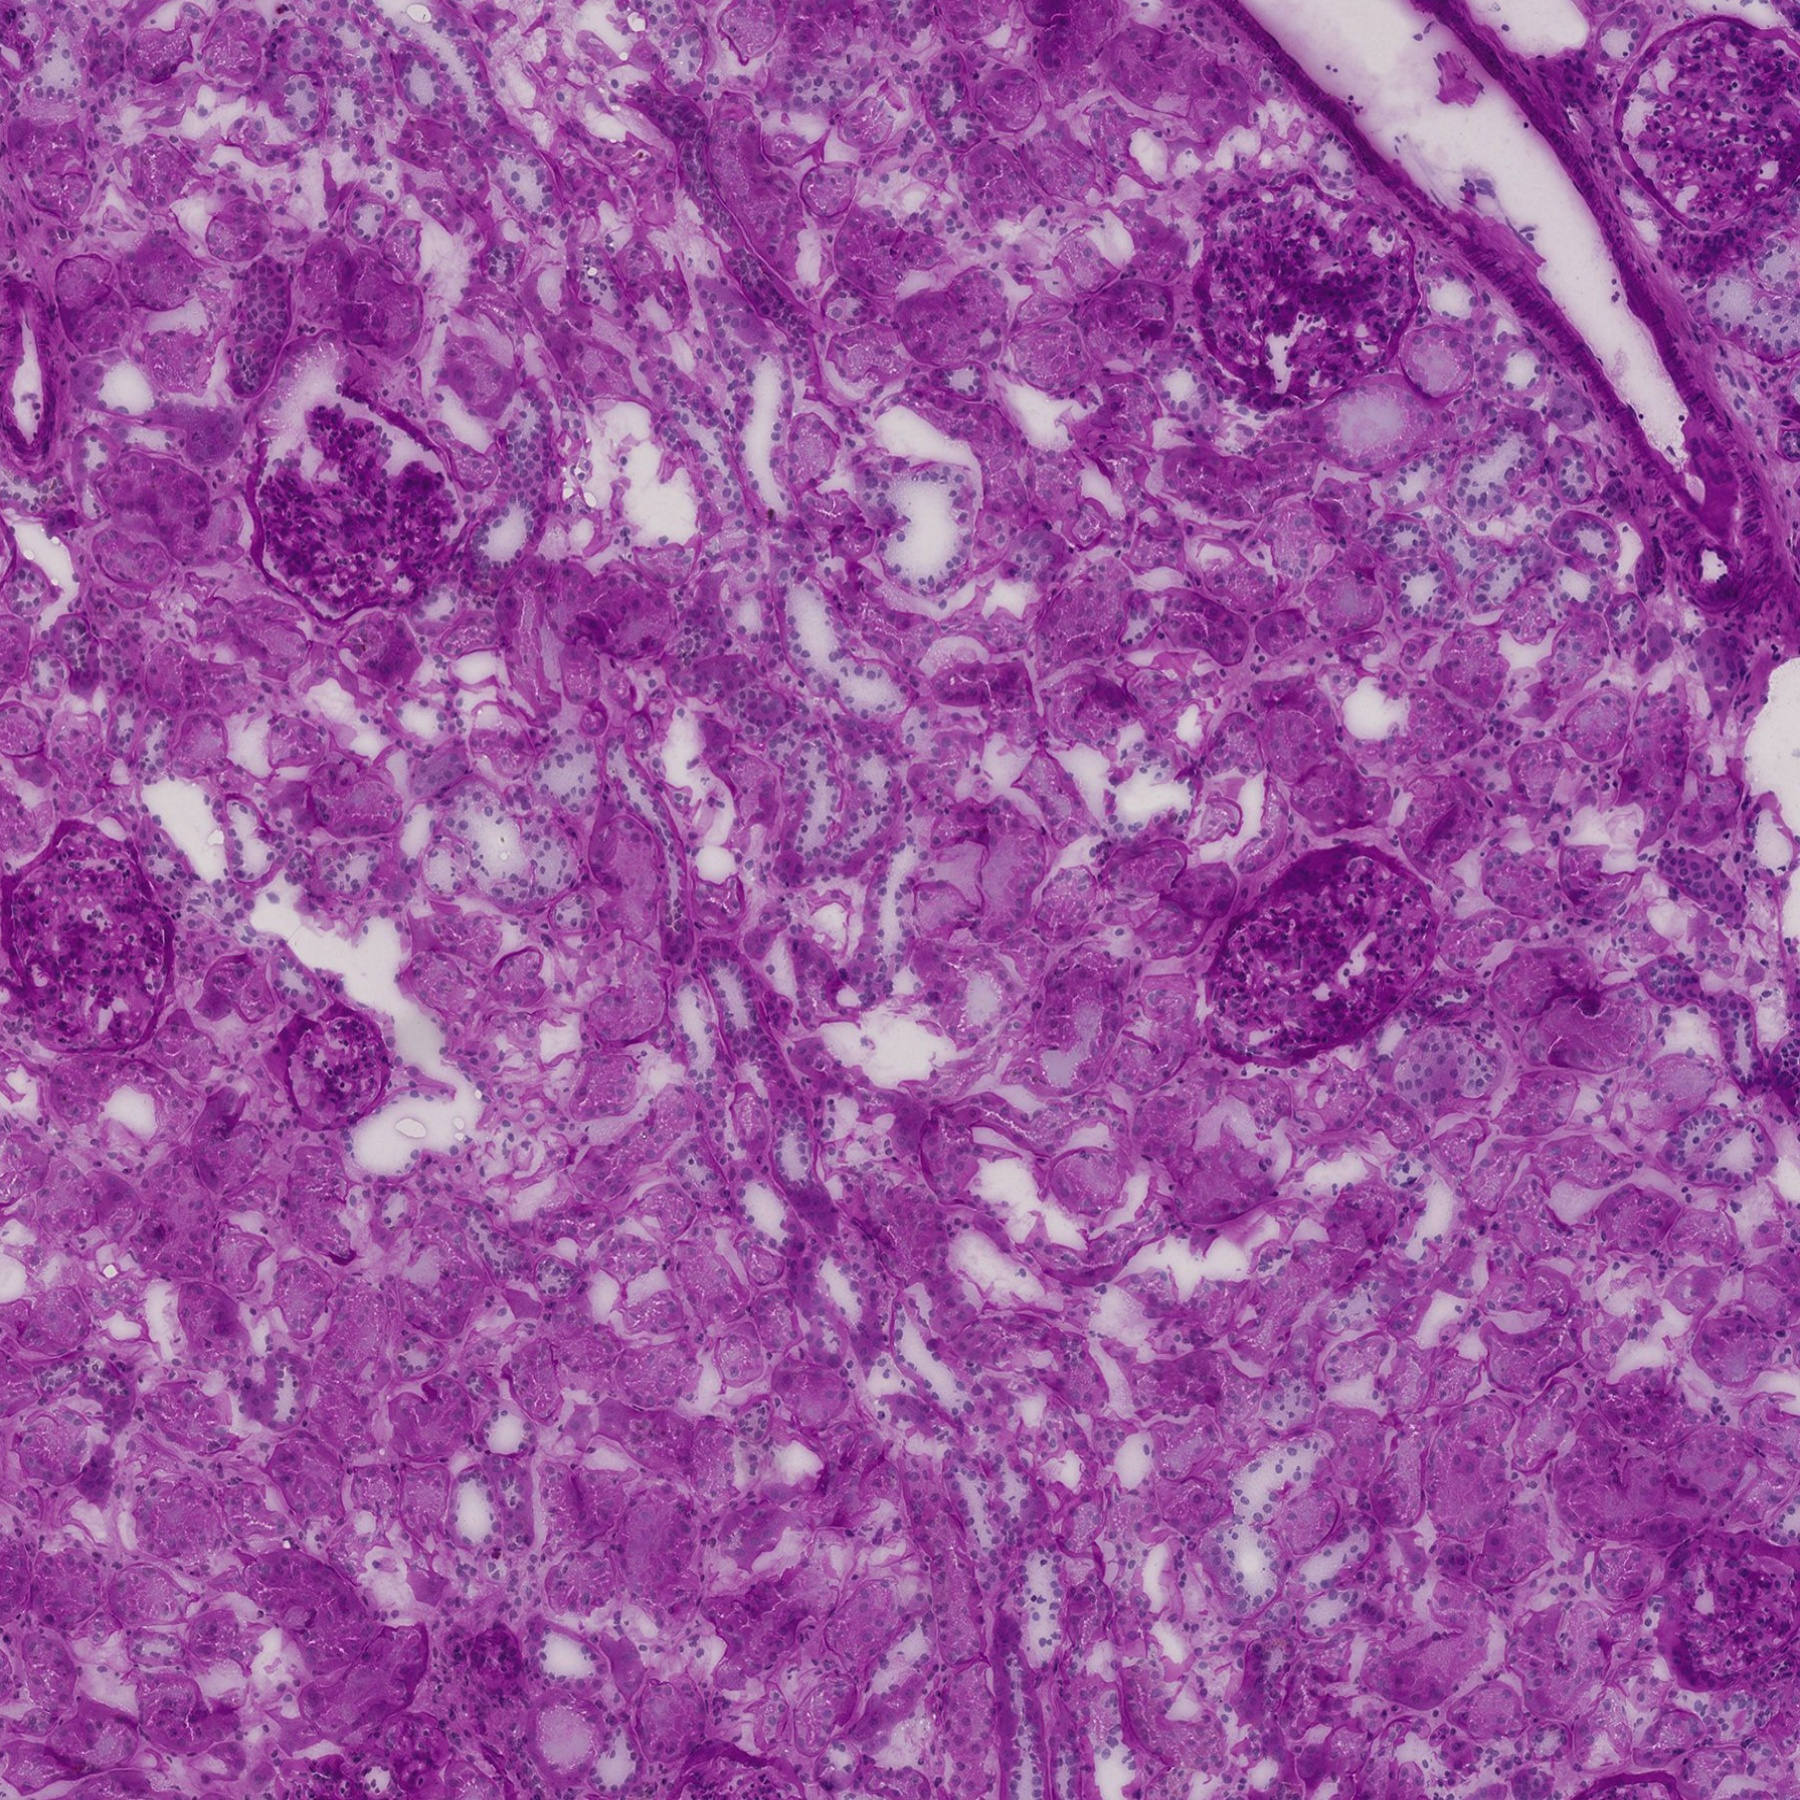Glomeruli: (1202, 834, 1441, 1073), (1188, 178, 1419, 409), (246, 387, 471, 621), (1614, 12, 1800, 232), (5, 818, 171, 1057), (1657, 1525, 1800, 1698), (284, 1005, 391, 1132)
